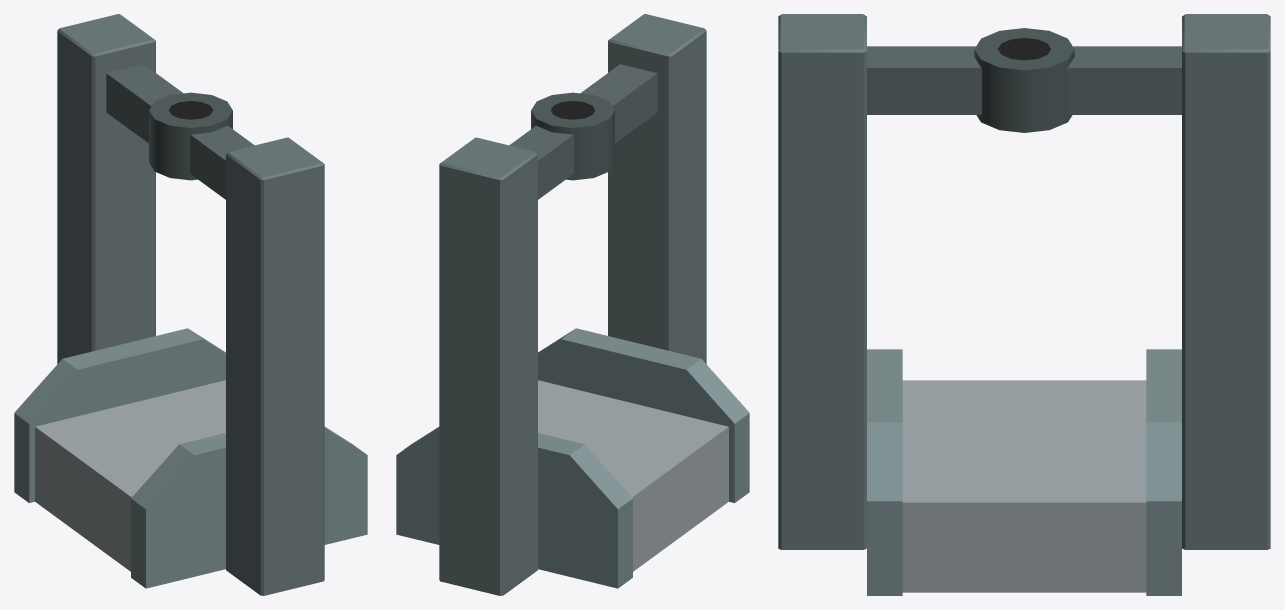
File: mech_5.fbx
The picture shows the model from 3 angles, left to right: view 1: azimuth 30°, elevation 25°; view 2: azimuth 150°, elevation 25°; view 3: azimuth 270°, elevation 25°; orthographic projection. The views are drawn at different scales.
Parts seen in each view (by area): view 1: mech_5_lv1; view 2: mech_5_lv1; view 3: mech_5_lv1.
Boxes of the visible parts, bbox=[...] form: mech_5_lv1: bbox=[14, 14, 367, 595]; mech_5_lv1: bbox=[396, 14, 749, 595]; mech_5_lv1: bbox=[778, 14, 1270, 595].
Size of the model in its own units: 122 by 220 by 196.
